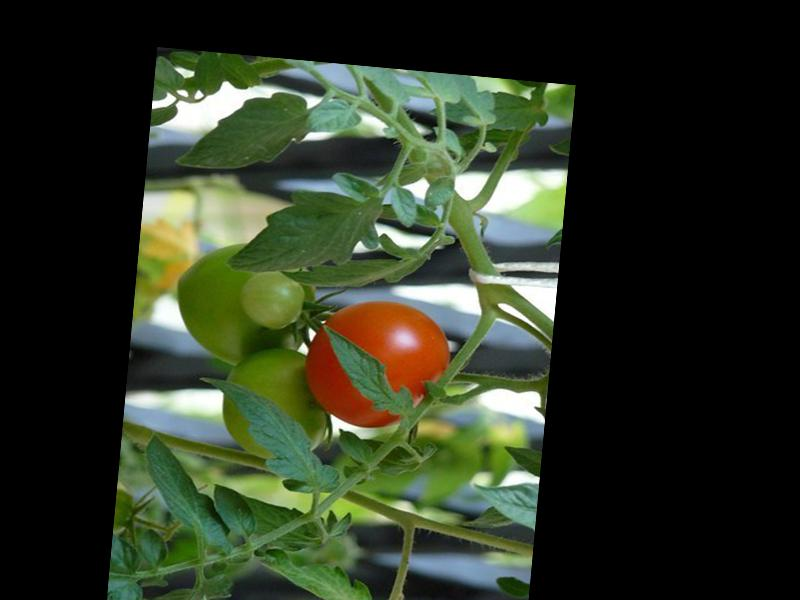Tomato: (302, 294, 454, 434)
